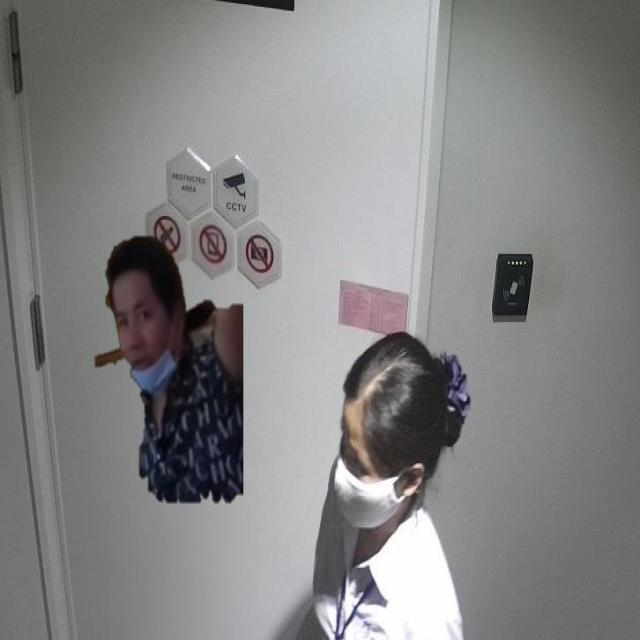hairnet: (113, 298, 176, 392)
